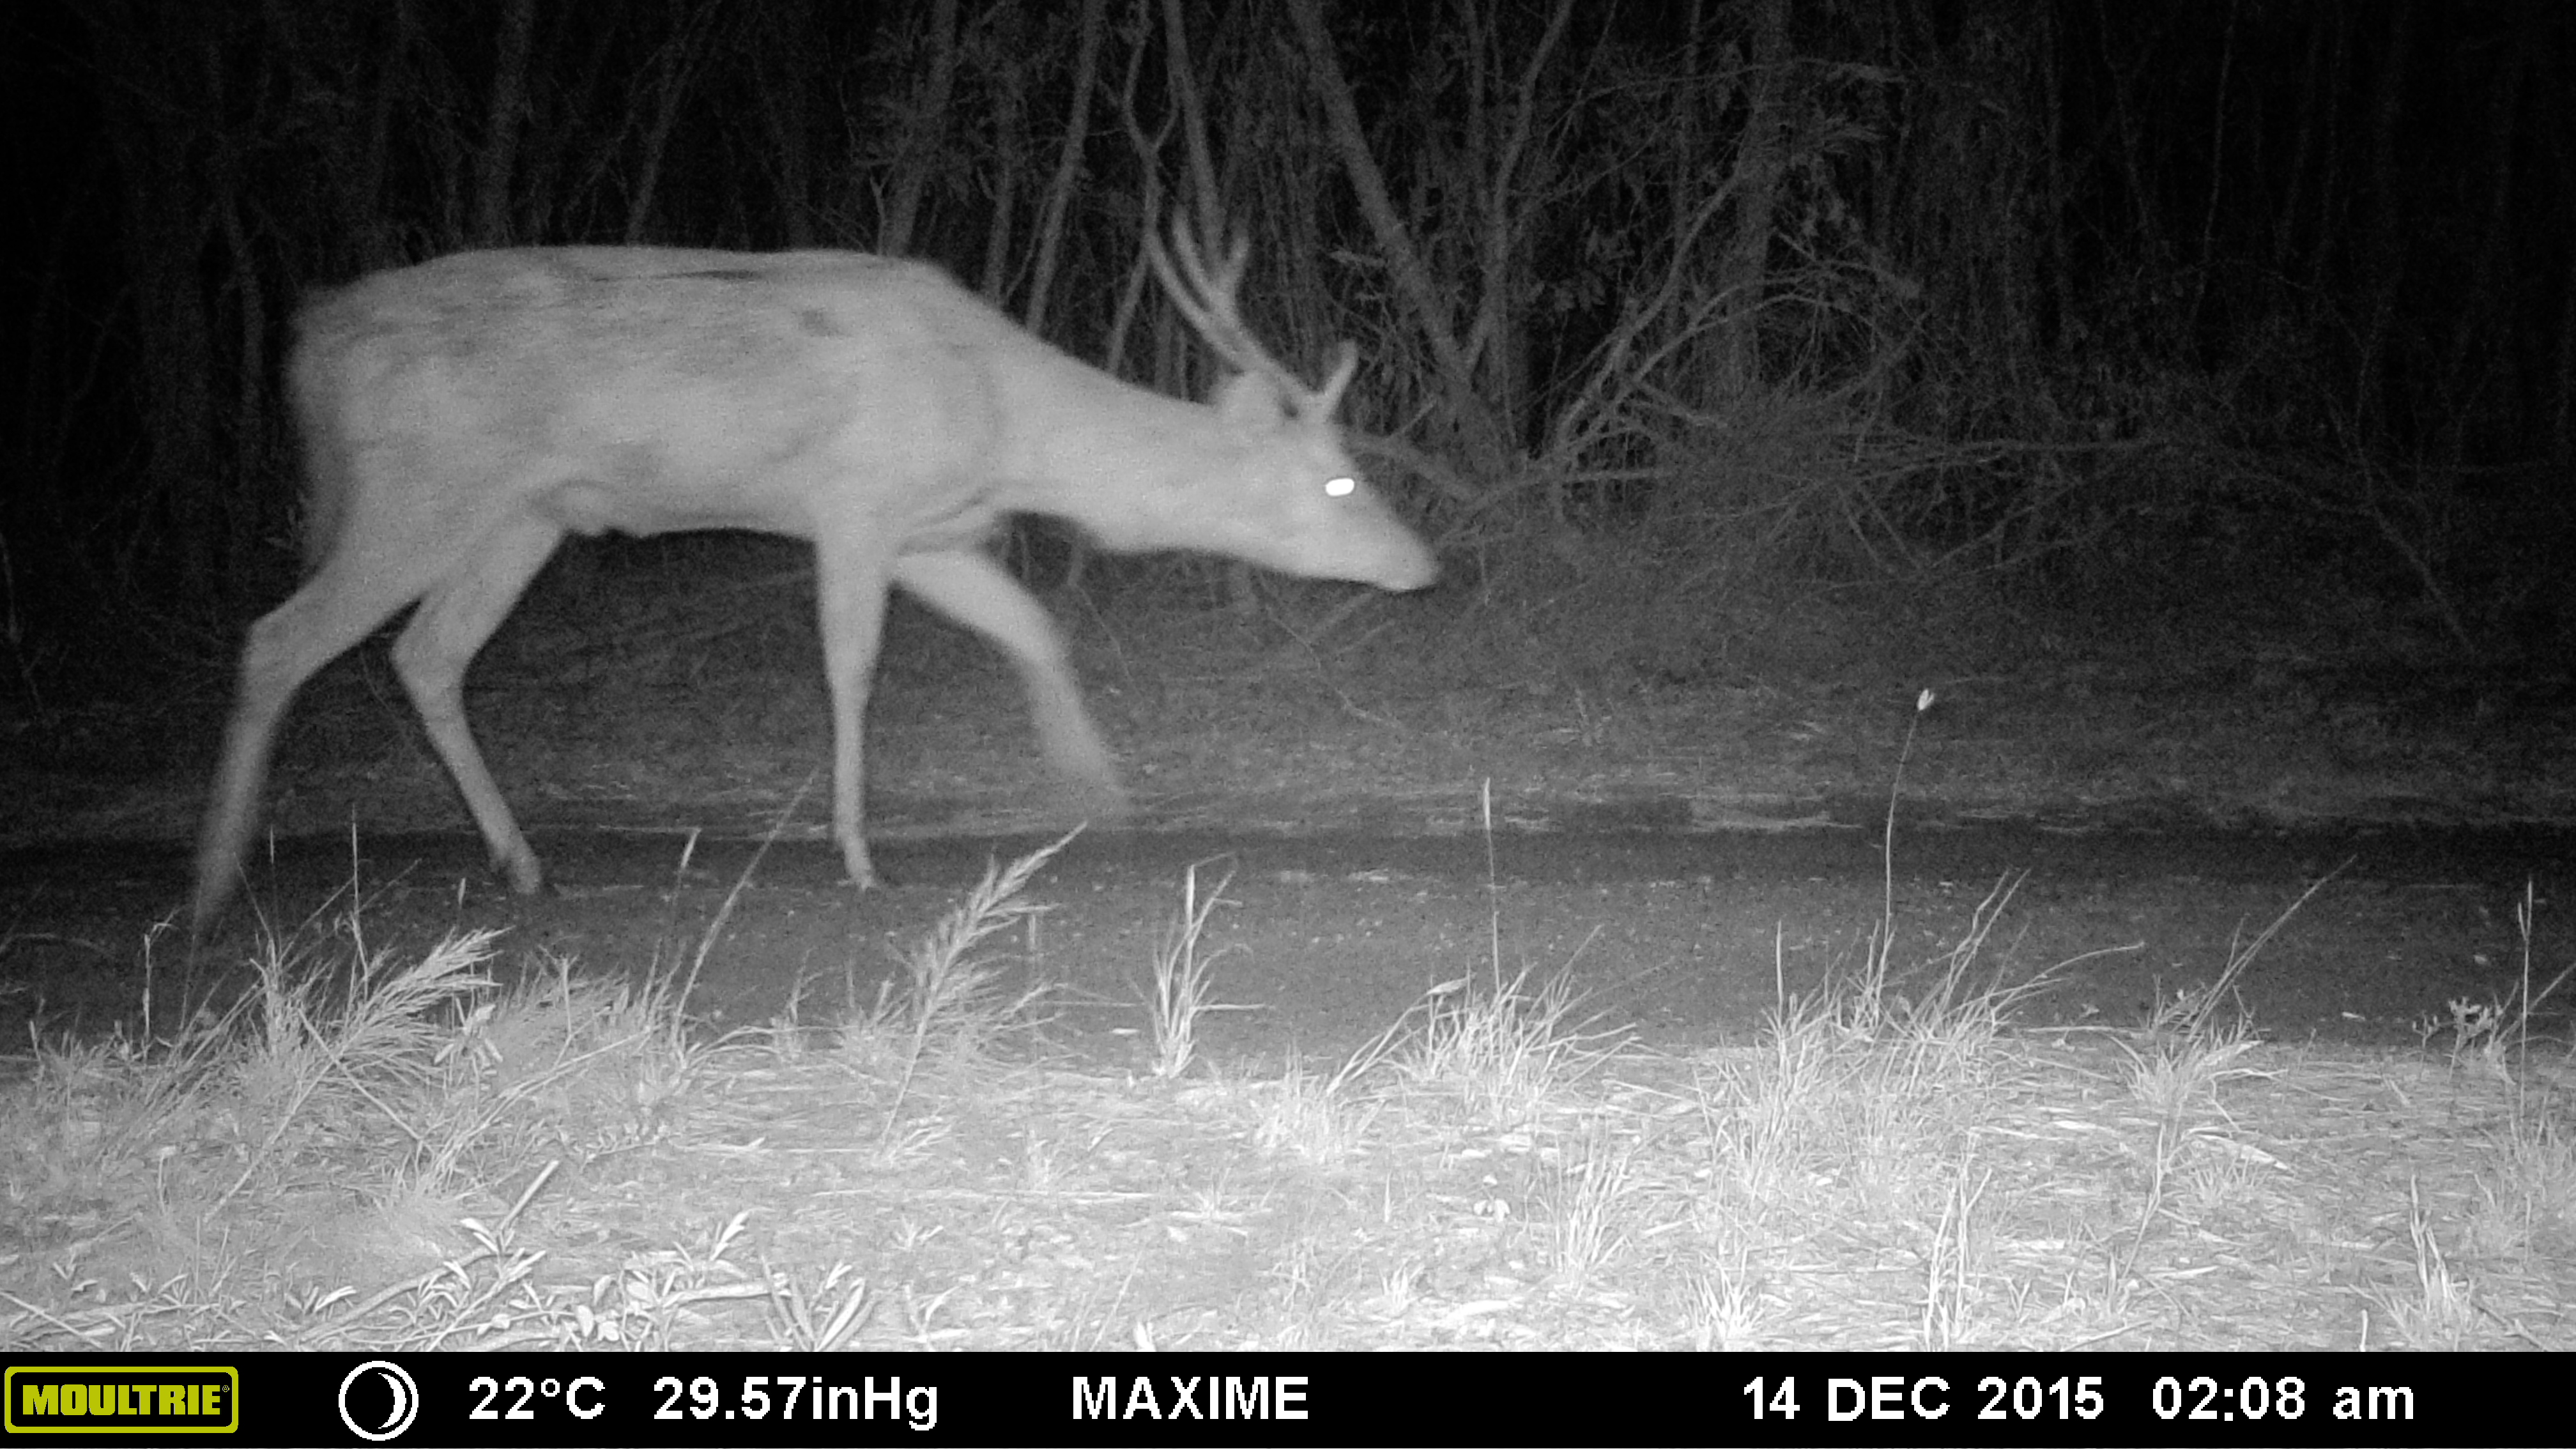Deer: (166, 196, 1479, 971)
